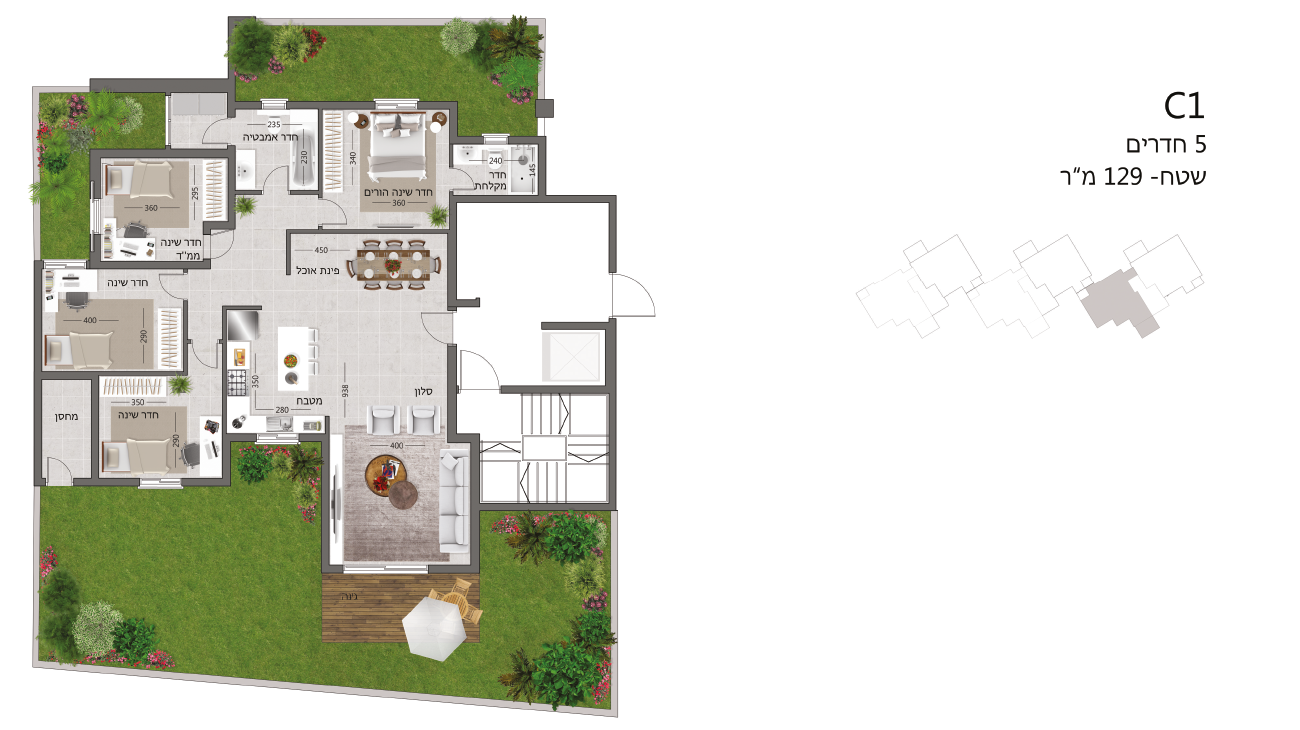door: (619, 269, 664, 321), (459, 348, 501, 382), (416, 309, 450, 344), (43, 450, 75, 478), (189, 344, 221, 372), (152, 271, 184, 299), (259, 161, 291, 189), (321, 199, 353, 227)
wall: (90, 80, 237, 93), (470, 433, 480, 575), (322, 433, 331, 573), (501, 385, 616, 394), (472, 503, 615, 509)
window: (342, 564, 425, 574), (139, 478, 181, 489), (257, 432, 299, 443), (375, 99, 417, 109), (90, 199, 101, 233), (44, 262, 86, 269), (261, 101, 286, 109), (484, 137, 509, 145)
